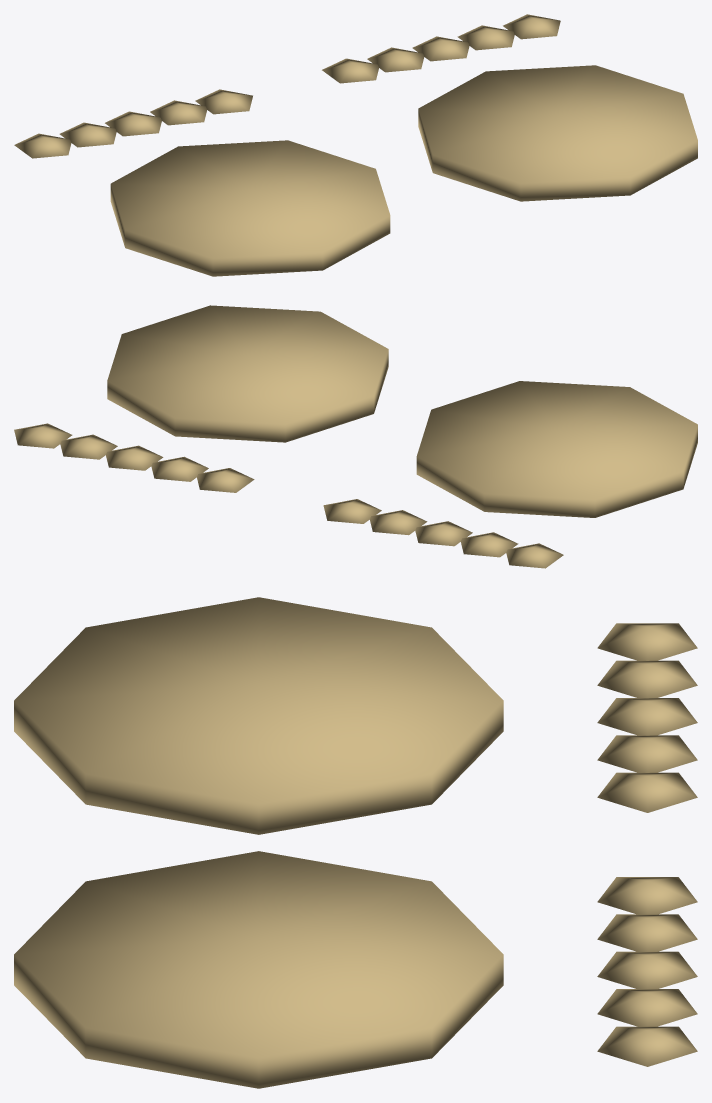
Rendered from xy_beach_footprint.glb.
3 renders of one model, top to bottom at view 1: azimuth 30°, elevation 25°; view 2: azimuth 150°, elevation 25°; view 3: azimuth 270°, elevation 25°, orthographic. The views are drawn at different scales.
Parts seen in each view (by area): view 1: Footprint; view 2: Footprint; view 3: Footprint.
Boxes of the visible parts, bbox=[...] form: Footprint: bbox=[14, 14, 697, 276]; Footprint: bbox=[14, 305, 697, 568]; Footprint: bbox=[14, 597, 697, 1088].
Bounding box in the file's own units: 0.6171 × 0.0384 × 0.3871.
